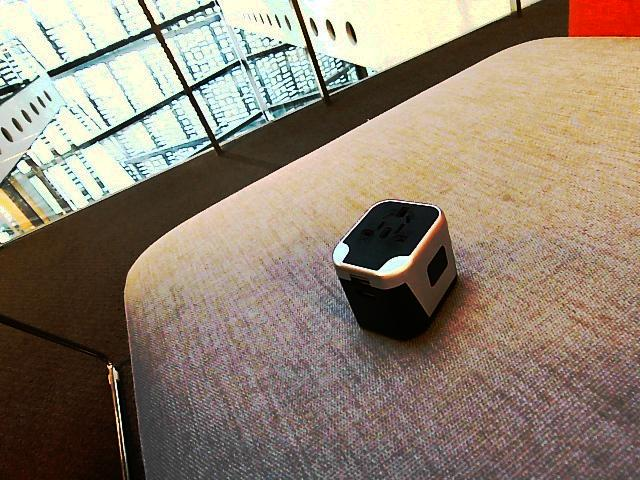adapter: (330, 198, 458, 340)
